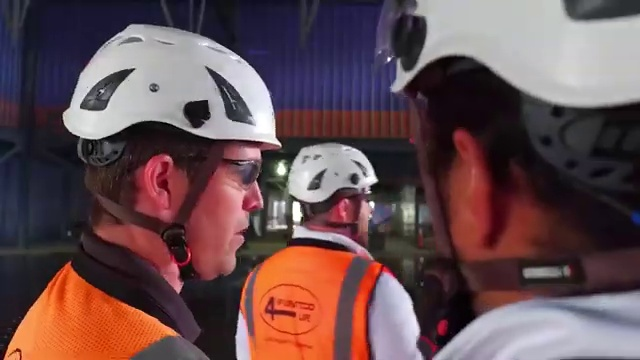helmet: (57, 12, 286, 156), (362, 1, 638, 115), (286, 136, 386, 204)
jacket: (1, 259, 182, 360), (253, 245, 404, 360)
